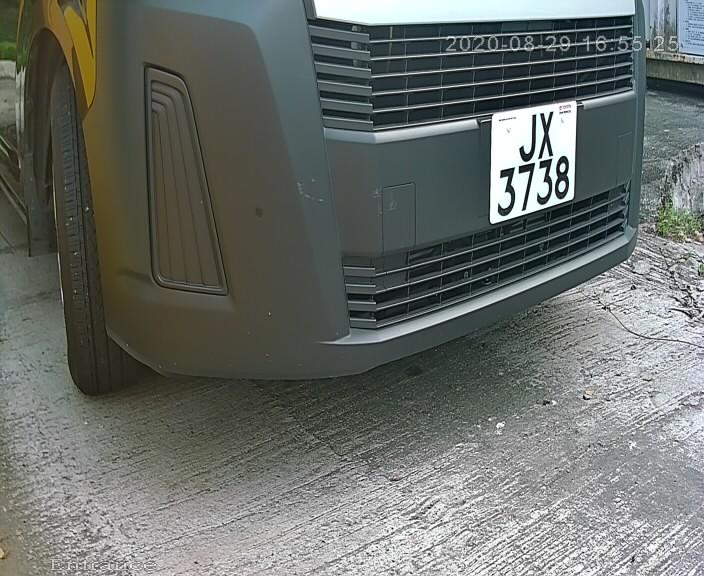License Plate: (475, 93, 585, 227)
